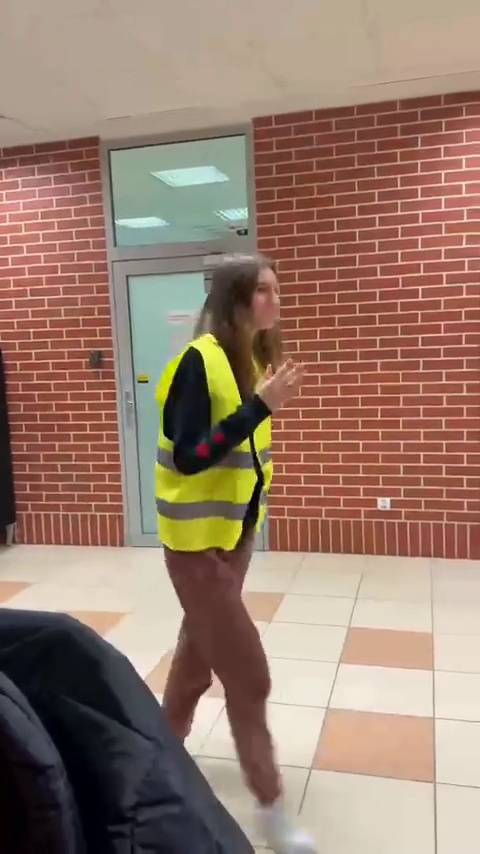vest: (145, 261, 325, 828)
